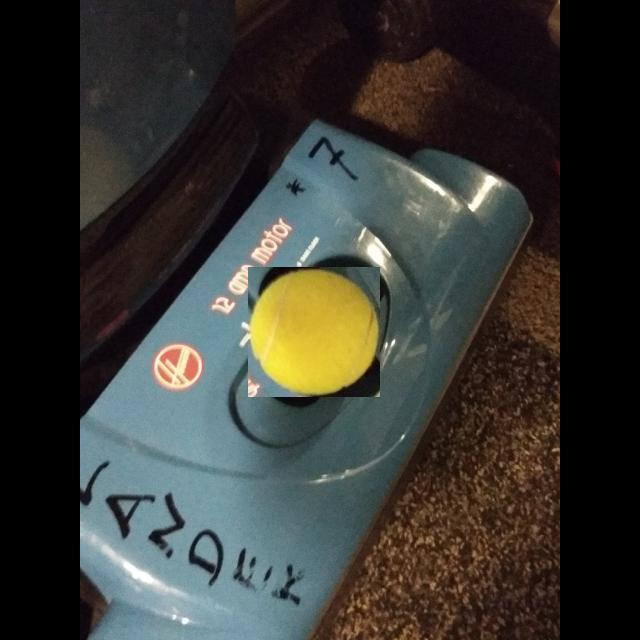tennis ball: (248, 267, 380, 397)
